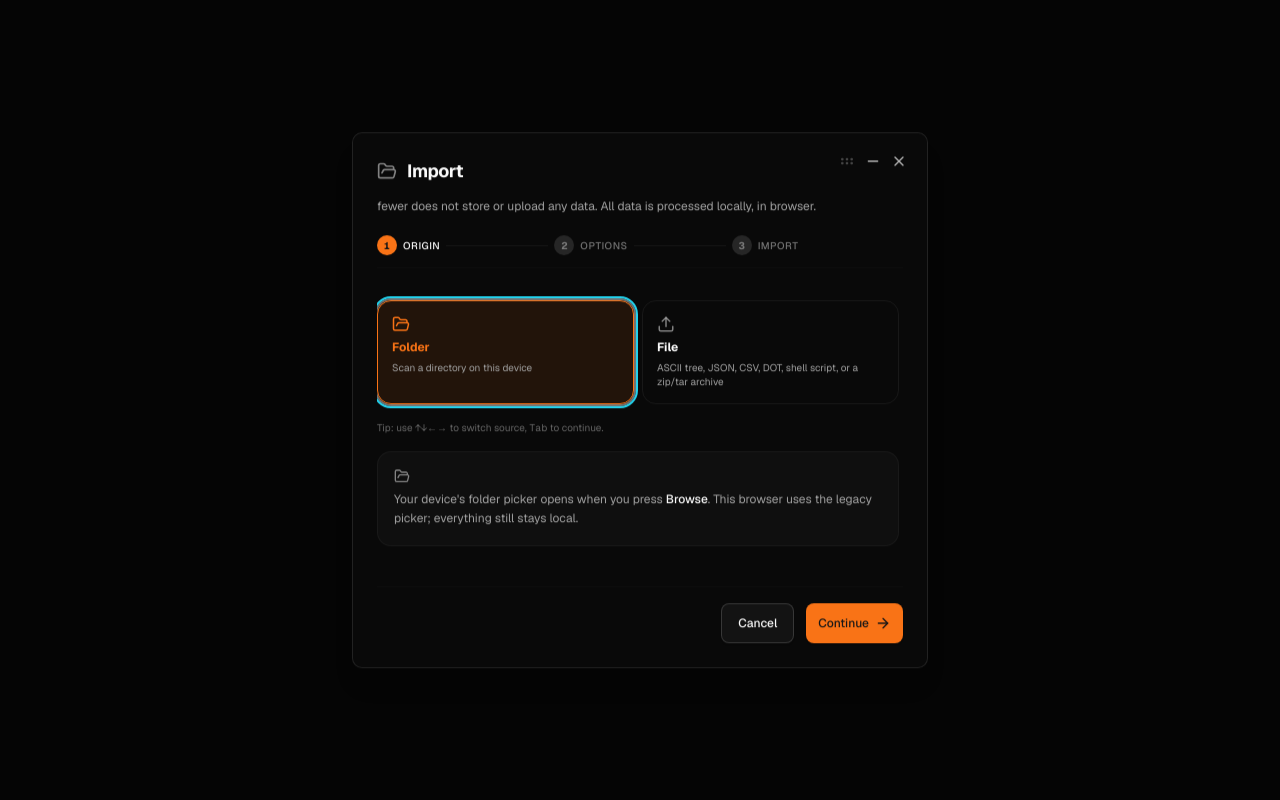
ImportFlowDialog state and step-3 import › step-3 folder summary shows No limit for unlimited depths
The width and height of the screenshot is (1280, 800).
Click the button "Continue".
click(855, 623)  # box [806,603,903,643]
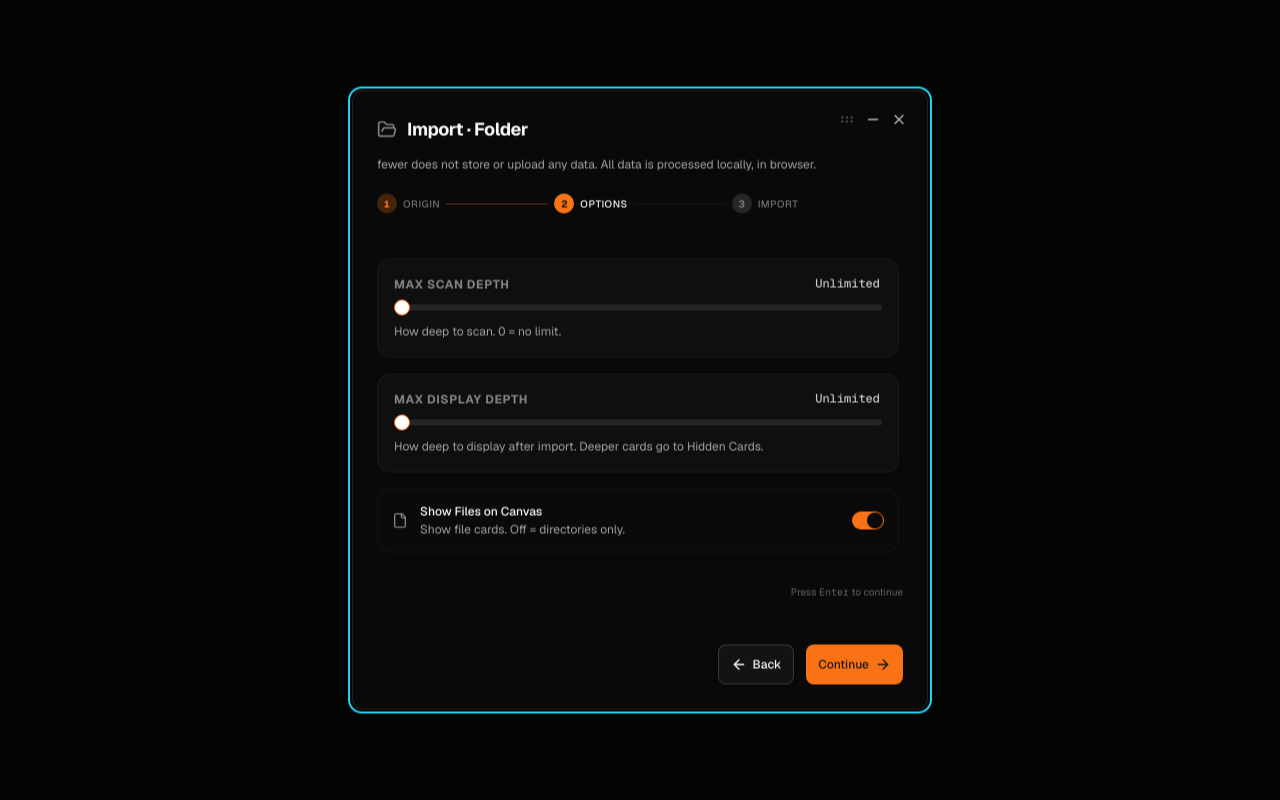
Click the button "Continue".
click(855, 664)  # box [806,644,903,684]
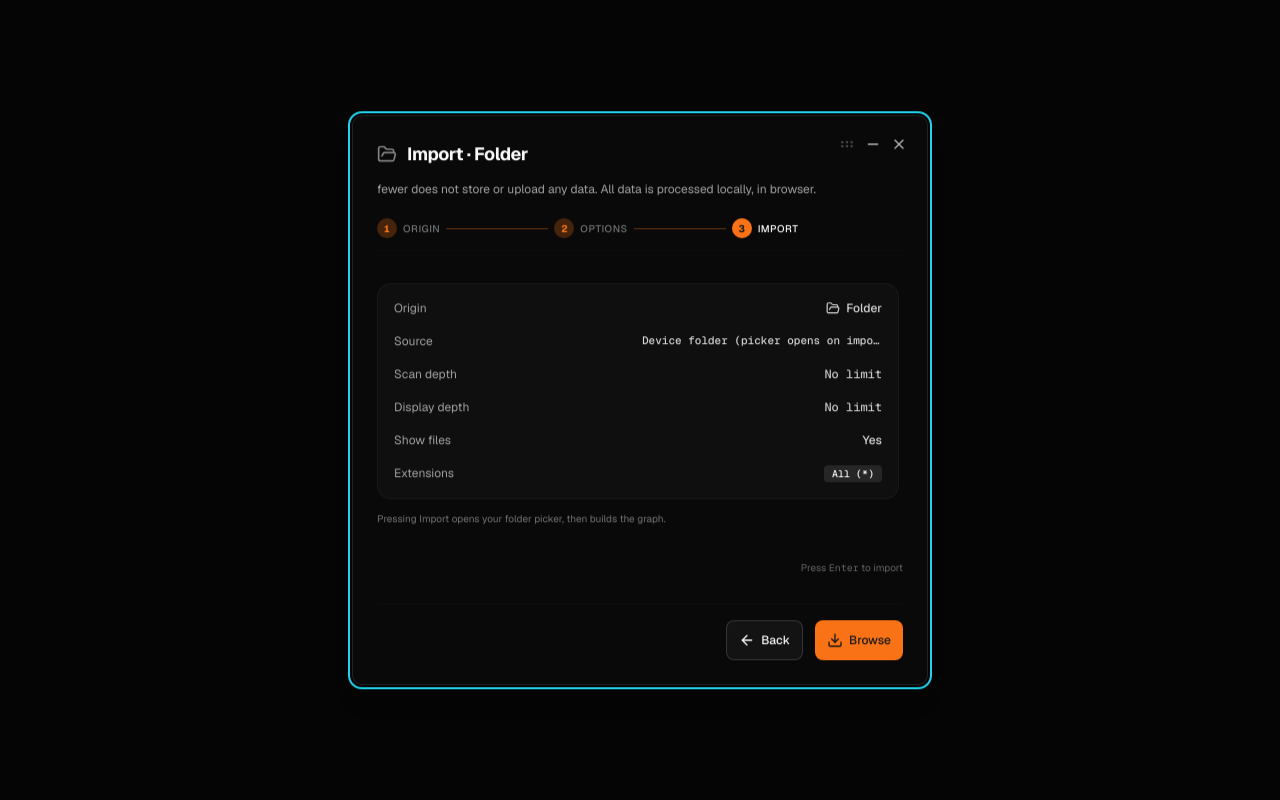
Check: the button "Browse" is shown, box [815,620,903,660]
Check: the text "No limit" in the row of "Scan depth" is shown, box [824,366,882,382]
